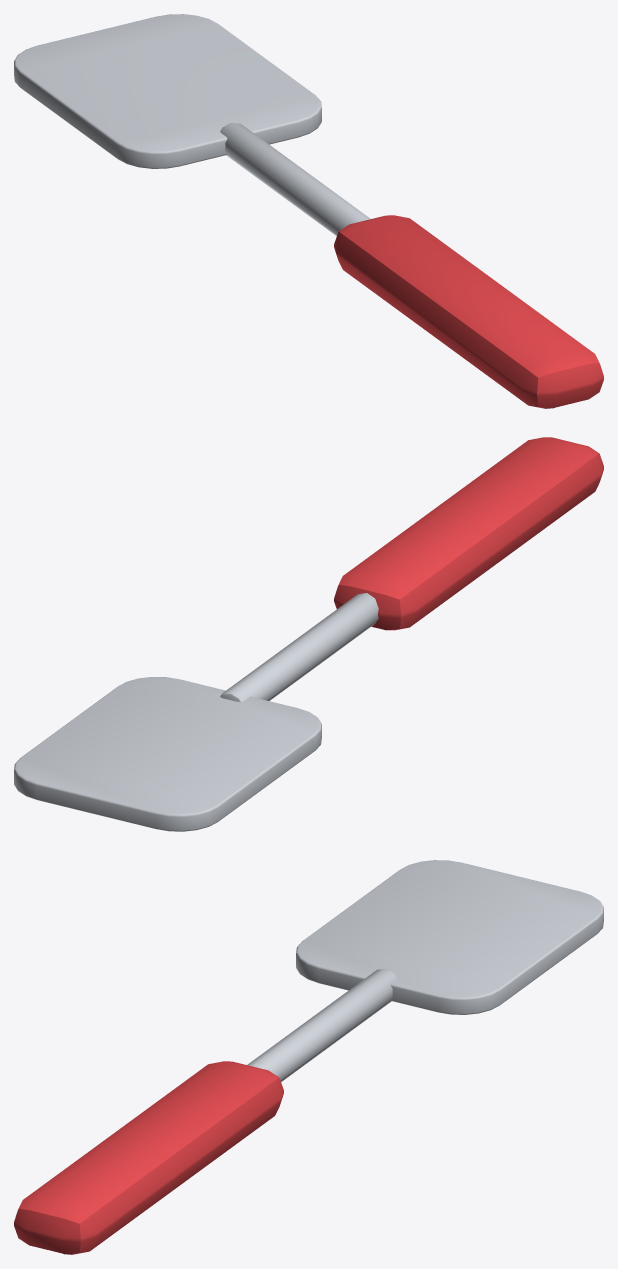
File: espatula_lisa.glb
The picture shows the model from 3 angles, top to bottom: view 1: azimuth 30°, elevation 25°; view 2: azimuth 150°, elevation 25°; view 3: azimuth 330°, elevation 25°; orthographic projection.
Visible parts, largest first — view 1: espatula_lisa; view 2: espatula_lisa; view 3: espatula_lisa.
Boxes of the visible parts, <box> form: espatula_lisa: <box>14,14,603,408</box>; espatula_lisa: <box>14,437,603,831</box>; espatula_lisa: <box>14,860,603,1254</box>.
Bounding box in the file's own units: 0.06 × 0.017 × 0.25.
1 material, 1 textured.
